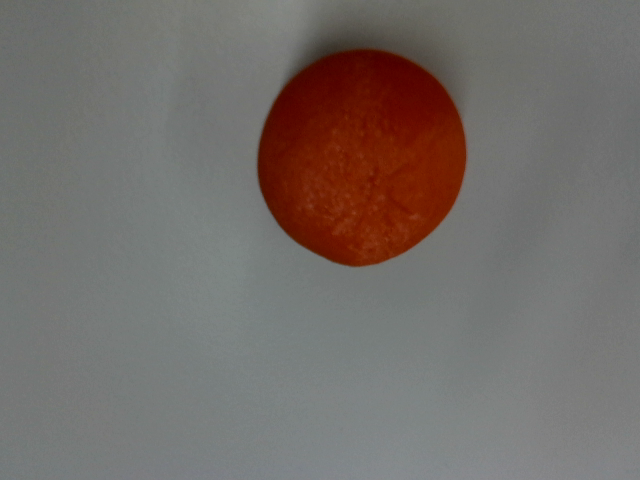orange: (222, 15, 501, 298)
